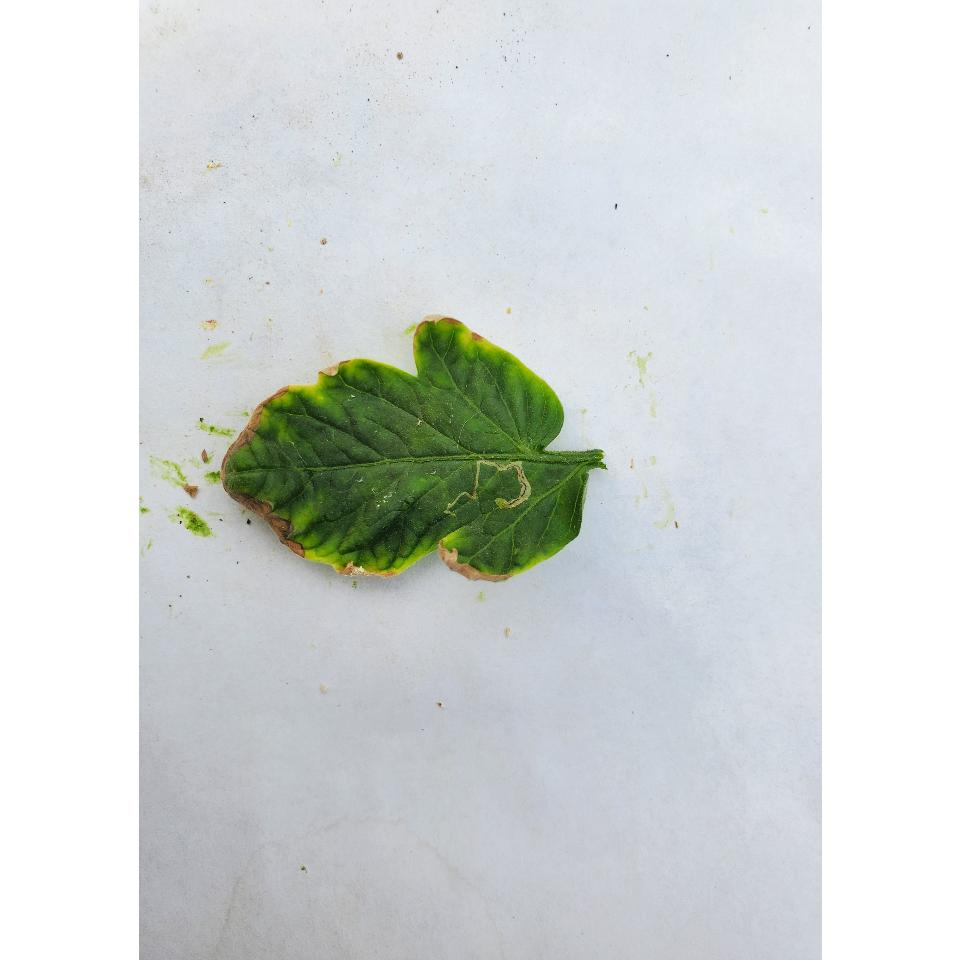tomato_bacterial_blight: (198, 336, 618, 586)
